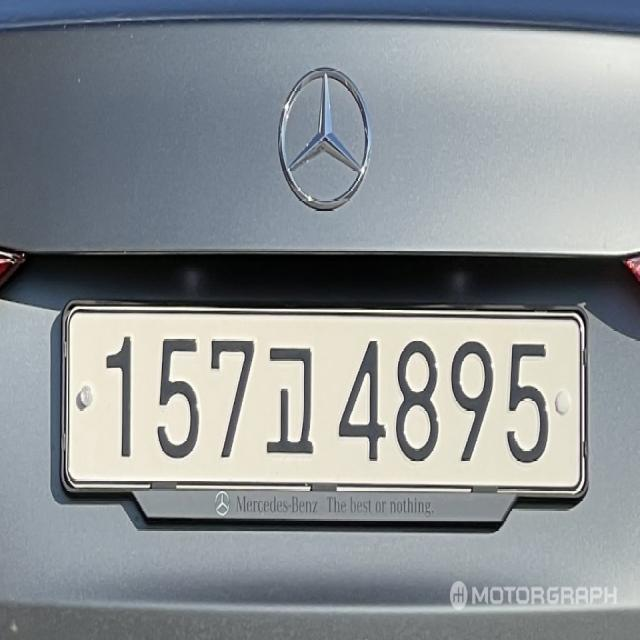car: (59, 298, 593, 532)
